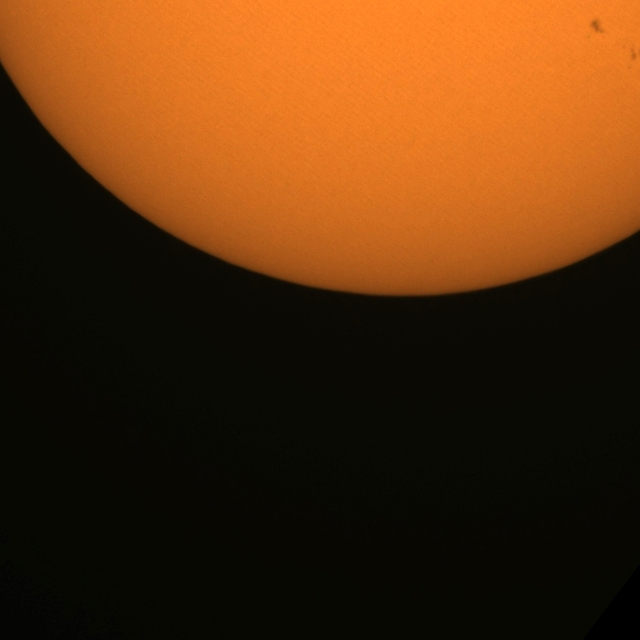sunspot: (588, 18, 606, 37), (629, 46, 639, 63)
